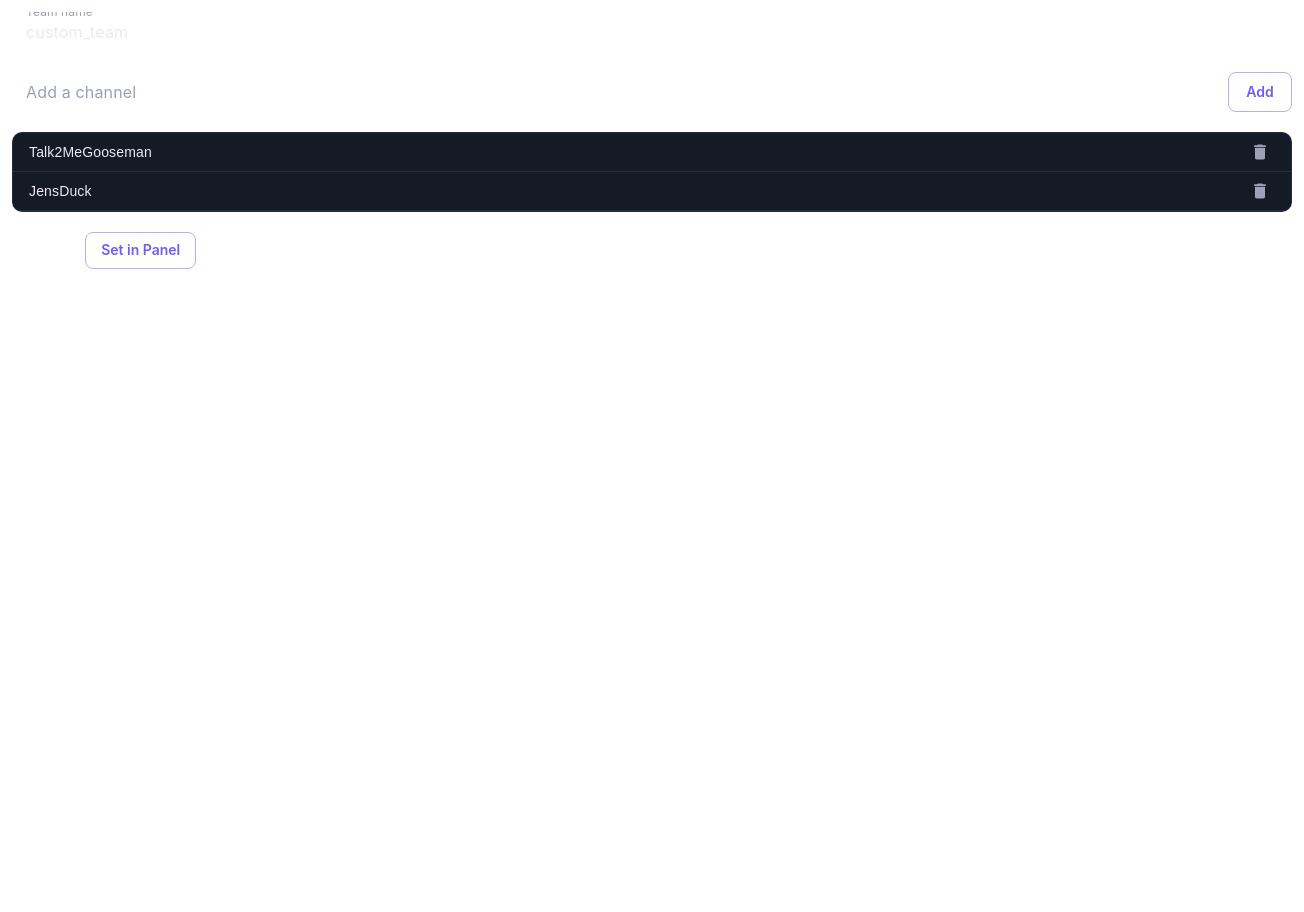
it: CustomTeamFlow › removes a team member from the list when its trash icon is clicked
Expected: the text "Talk2MeGooseman" is shown, [29,137,1275,167]
Step 1. Click the 1st button with test id "trash-can" → (1260, 152), box [1245,137,1275,167]
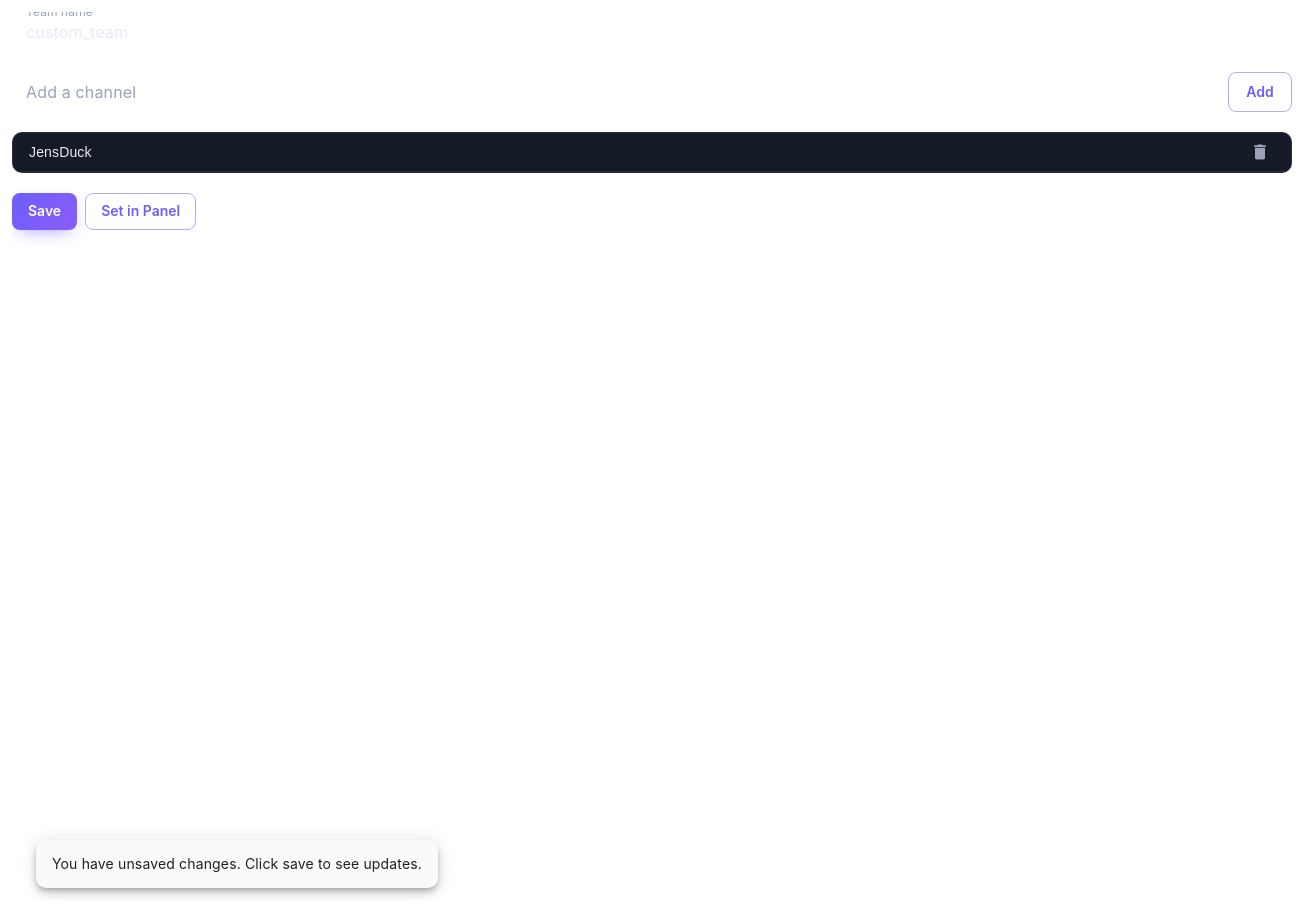
Expected: the text "JensDuck" is shown, [29,137,1275,167]
Expected: the text "Talk2MeGooseman" is gone
